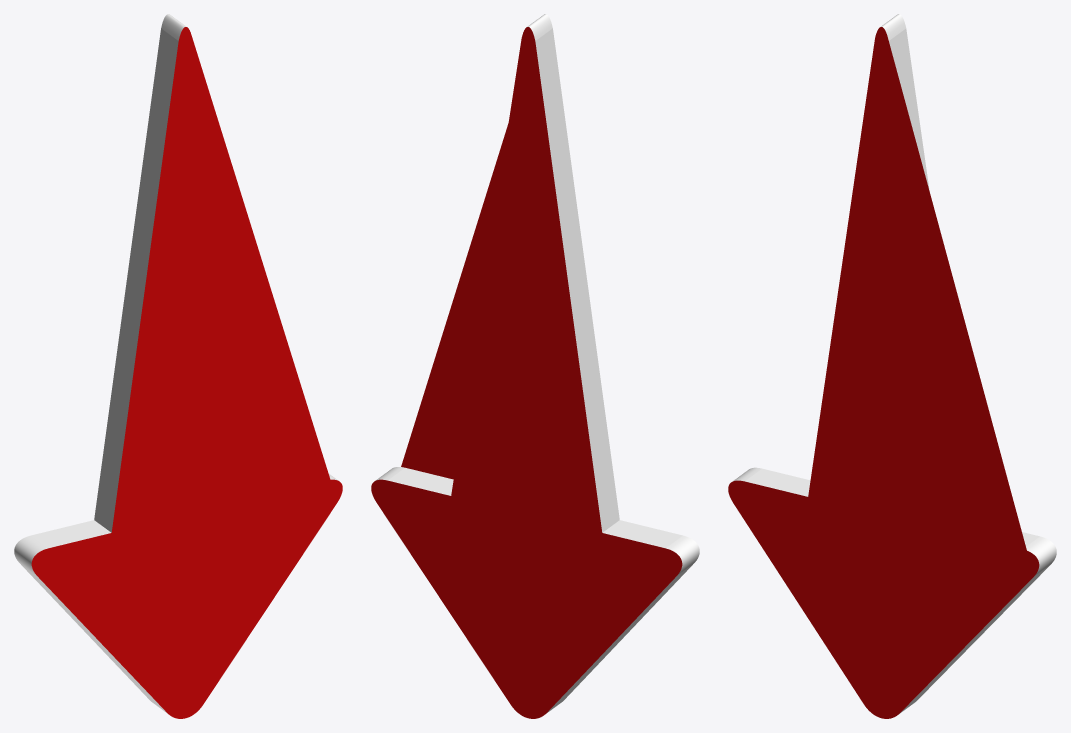
Rendered from Ok_Kirmizi.fbx.
3 renders of one model, left to right at view 1: azimuth 30°, elevation 25°; view 2: azimuth 150°, elevation 25°; view 3: azimuth 330°, elevation 25°, orthographic.
Parts seen in each view (by area): view 1: Extrude_1; view 2: Extrude_1; view 3: Extrude_1.
Boxes of the visible parts, <box> form: Extrude_1: <box>14,14,342,718</box>; Extrude_1: <box>371,14,699,718</box>; Extrude_1: <box>728,14,1056,718</box>.
Bounding box in the file's own units: 53.71 × 114 × 5.25.
